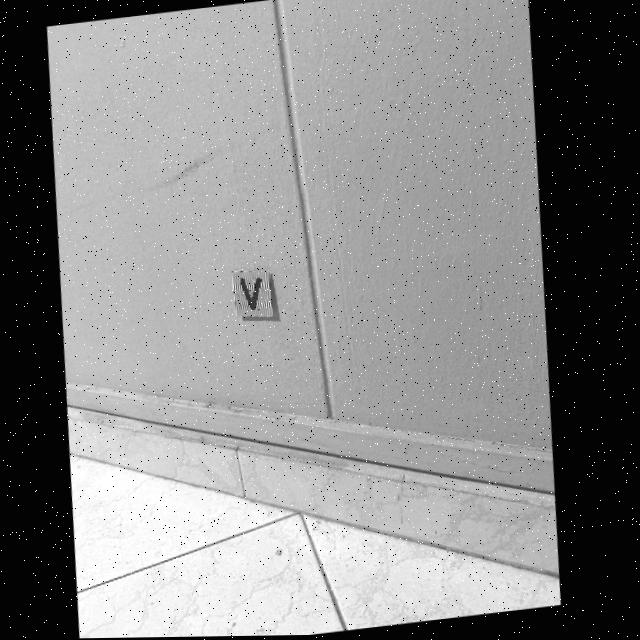V: (243, 279, 264, 311)
